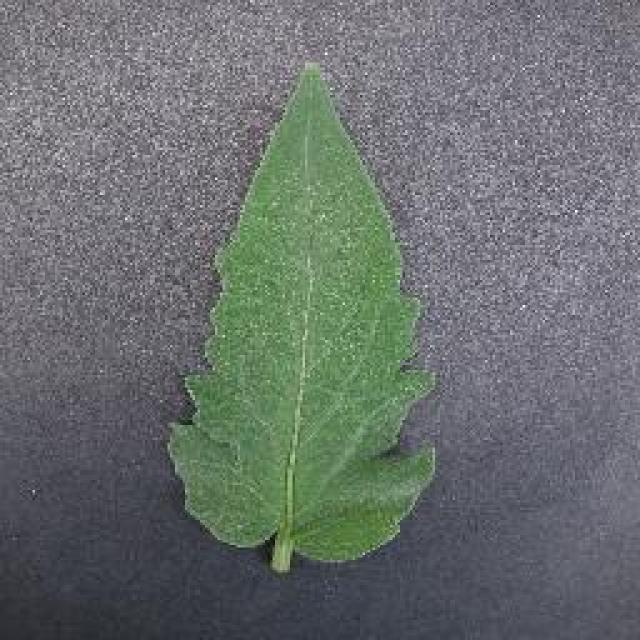Tomato healthy leaf: (165, 59, 445, 579)
